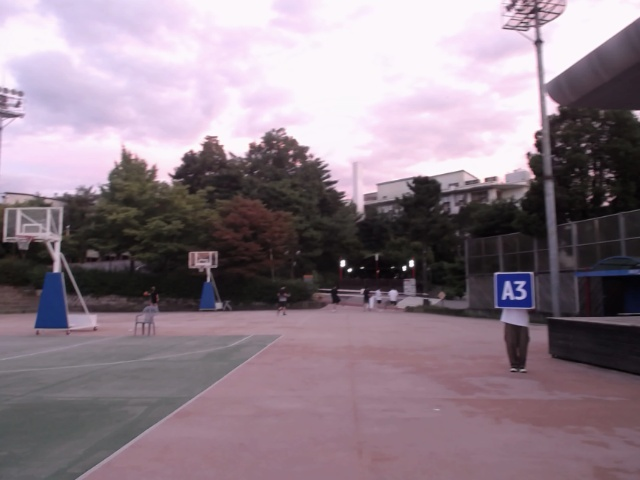delivery_a3: (494, 272, 534, 308)
